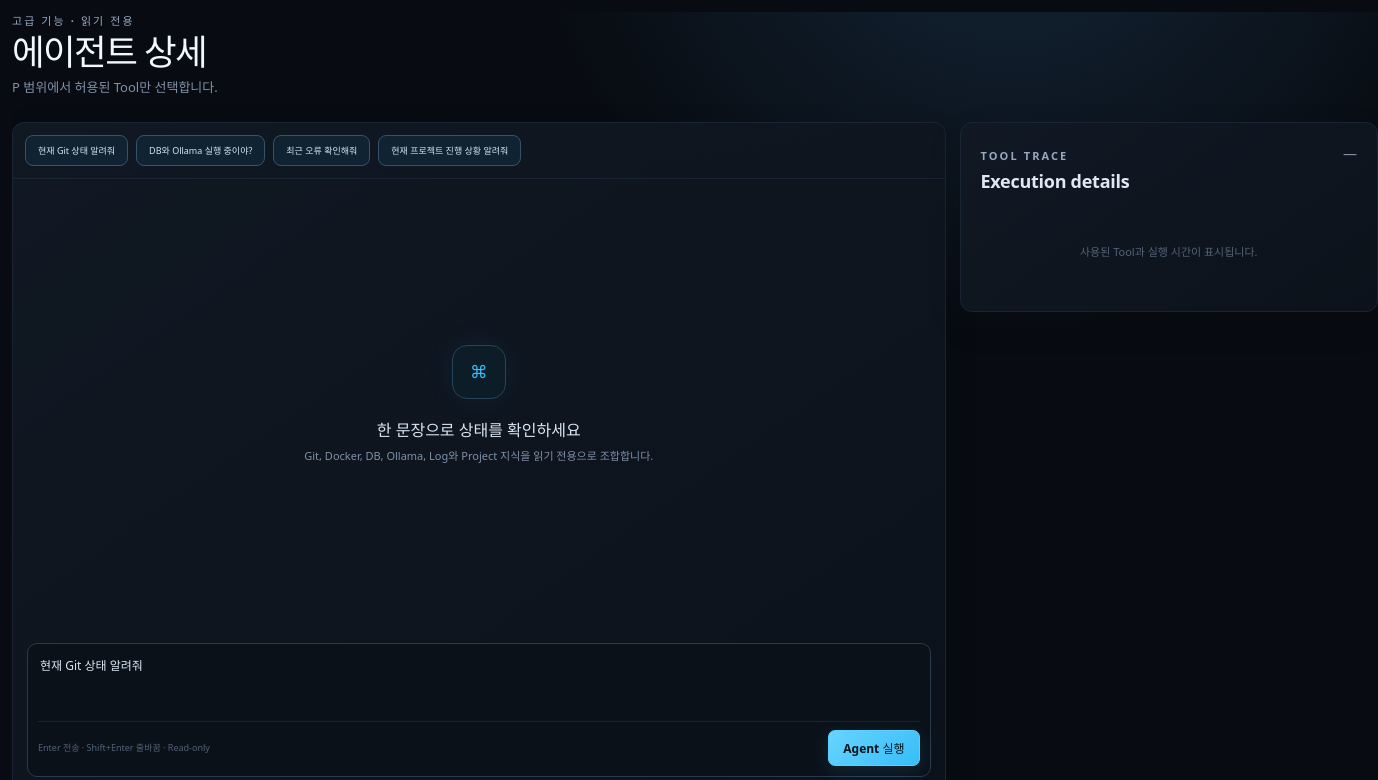
Test: shows the Agent answer and read-only Tool trace
Replace the text in the text box named "Agent 질문" with "Git?" at (479,685), box left=38, top=654, right=920, bottom=716
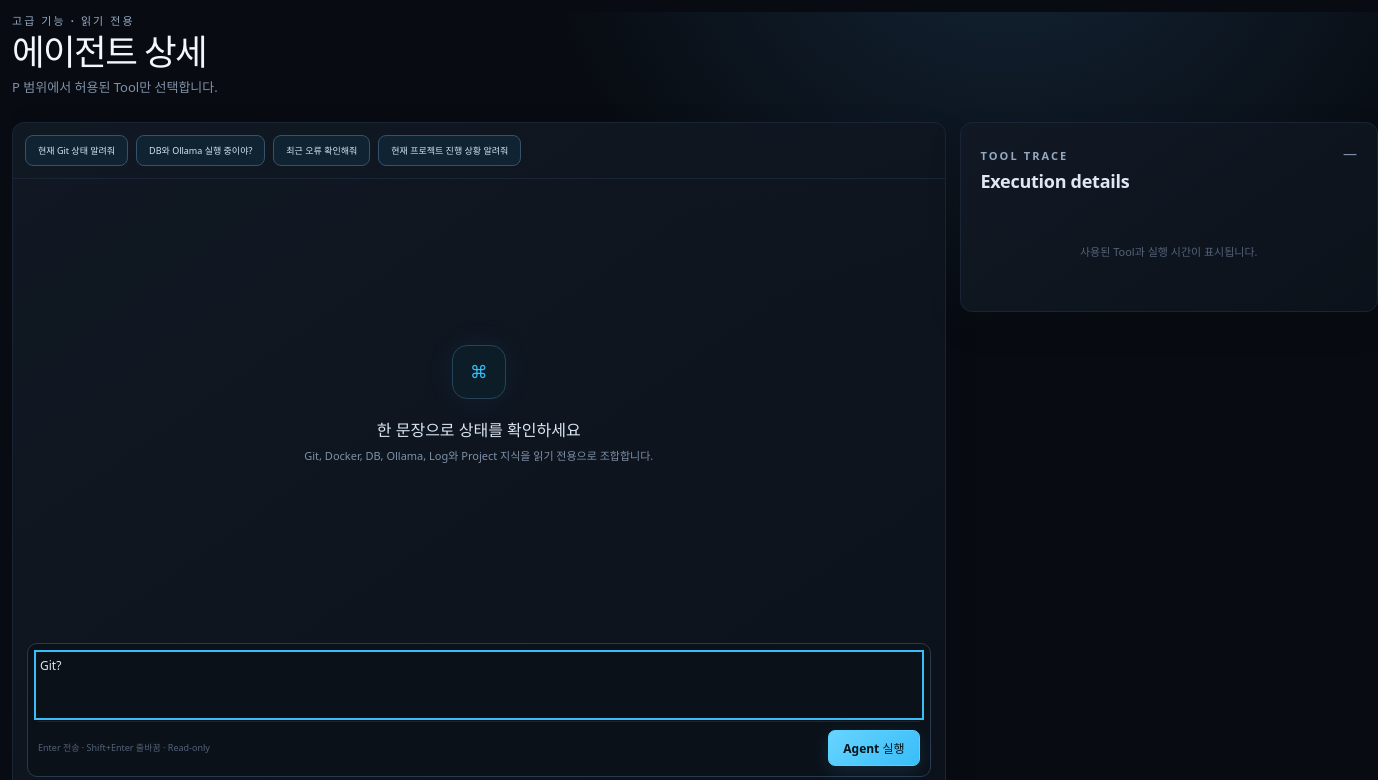
Click the button "Agent 실행" at (874,748), box left=828, top=730, right=920, bottom=766
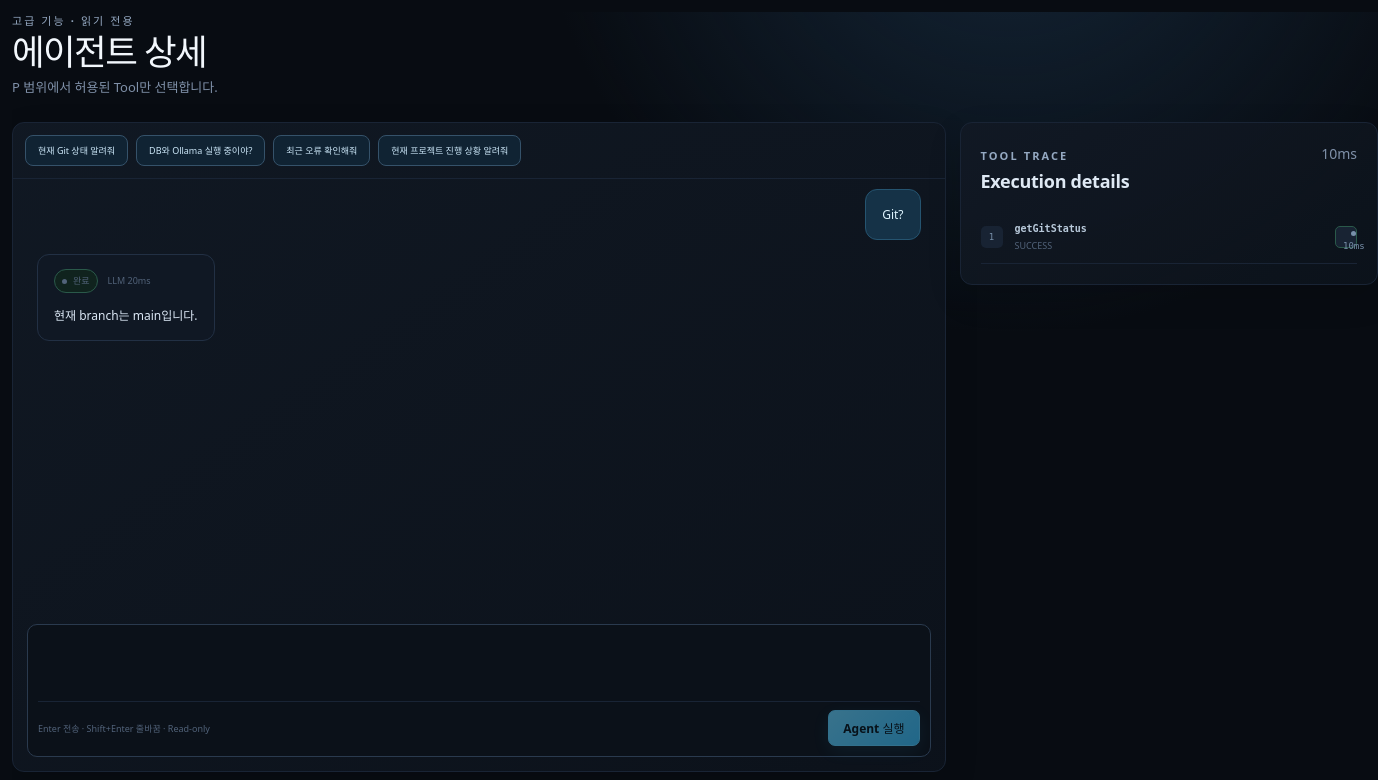
Expected: the text "현재 branch는 main입니다." is shown, left=54, top=305, right=198, bottom=326
Expected: the text "getGitStatus" is shown, left=1014, top=223, right=1087, bottom=234
